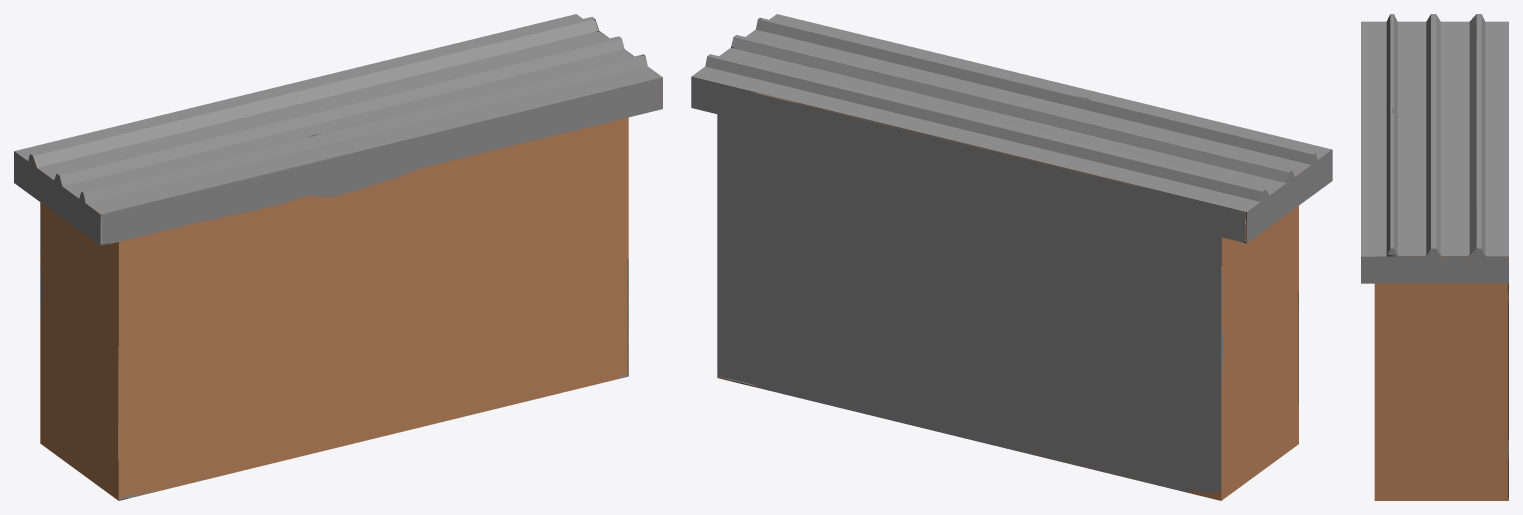
The model's file is counter2_out.fbx.
3 renders of one model, left to right at view 1: azimuth 30°, elevation 25°; view 2: azimuth 150°, elevation 25°; view 3: azimuth 270°, elevation 25°, orthographic. The views are drawn at different scales.
Visible parts, largest first — view 1: Cube; view 2: Cube; view 3: Cube.
Boxes of the visible parts, bbox=[...] form: Cube: bbox=[14, 14, 662, 500]; Cube: bbox=[691, 14, 1332, 500]; Cube: bbox=[1361, 14, 1508, 500].
Bounding box in the file's own units: 661 × 346 × 176.
